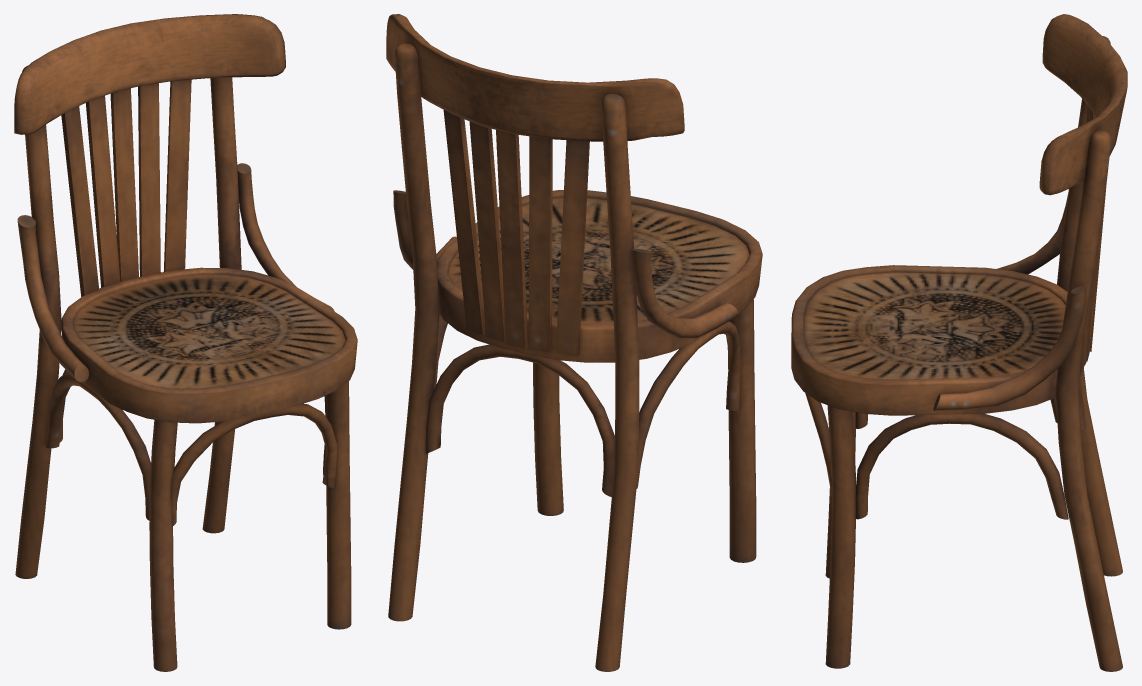
The model's file is egyptian-chair-82e951.glb.
3 renders of one model, left to right at view 1: azimuth 30°, elevation 25°; view 2: azimuth 150°, elevation 25°; view 3: azimuth 270°, elevation 25°, orthographic. The views are drawn at different scales.
Visible parts, largest first — view 1: PropMesh; view 2: PropMesh; view 3: PropMesh.
Part boxes in pixels (x1=…): PropMesh: x1=14, y1=14, x2=357, y2=671; PropMesh: x1=386, y1=14, x2=762, y2=671; PropMesh: x1=791, y1=14, x2=1127, y2=671.
Bounding box in the file's own units: 0.4883 × 0.9 × 0.5035.
1 material, 1 textured.
